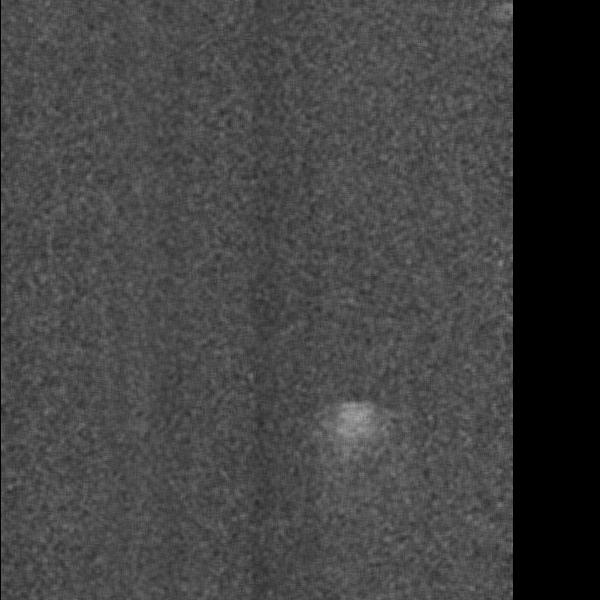spark: (318, 394, 388, 502)
